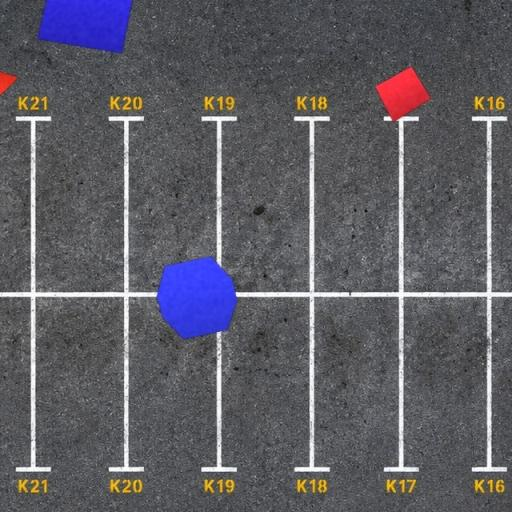BLUE_SQUARE: (36, 0, 139, 54)
RED_SQUARE: (374, 66, 432, 123)
